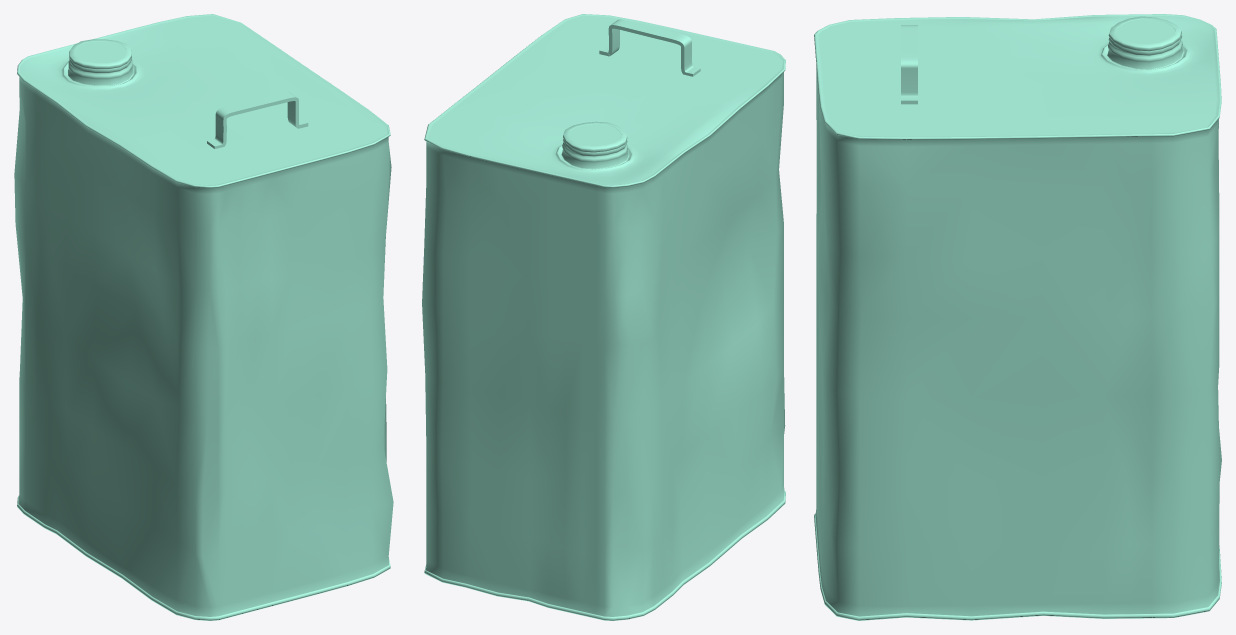
File: OiltinTall01.fbx
3 renders of one model, left to right at view 1: azimuth 30°, elevation 25°; view 2: azimuth 150°, elevation 25°; view 3: azimuth 270°, elevation 25°, orthographic. The views are drawn at different scales.
Parts seen in each view (by area): view 1: 3DsSceneModelsBlockin_Can_Geo6; view 2: 3DsSceneModelsBlockin_Can_Geo6; view 3: 3DsSceneModelsBlockin_Can_Geo6.
Boxes of the visible parts, x1,y1,x2,y2 form: 3DsSceneModelsBlockin_Can_Geo6: (14,14,393,620); 3DsSceneModelsBlockin_Can_Geo6: (422,14,785,620); 3DsSceneModelsBlockin_Can_Geo6: (814,14,1221,620).
Size of the model in its own units: 13.63 by 26.31 by 18.73.
